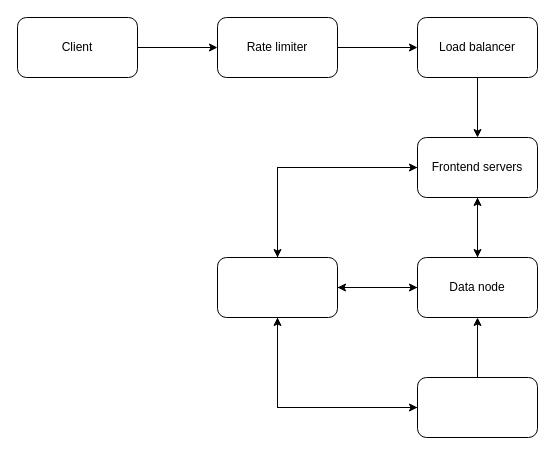
This 555x455 diagram has some shape labels left out. The shapes that lost their labels are listed below. From the top down, each one's centre as x and y in pixels, then its label:
point 277,287: Master node
point 477,407: Monitoring service
